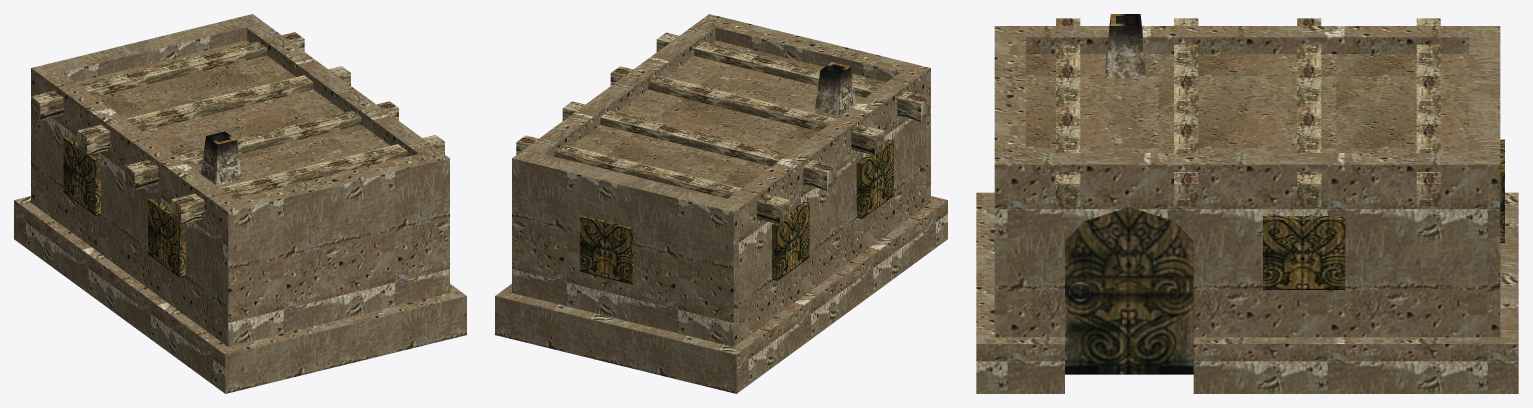
The model's file is House01.glb.
3 views of the same model, side by side, from view 1: azimuth 30°, elevation 25°; view 2: azimuth 150°, elevation 25°; view 3: azimuth 270°, elevation 25° (orthographic). The views are drawn at different scales.
Parts seen in each view (by area): view 1: House01; view 2: House01; view 3: House01.
Boxes of the visible parts, x1,y1,x2,y2 form: House01: [14, 14, 466, 393]; House01: [495, 14, 947, 393]; House01: [976, 14, 1518, 393].
Bounding box in the file's own units: 4.35 × 3.15 × 6.03.
Materials: 4 (4 with a texture image).
